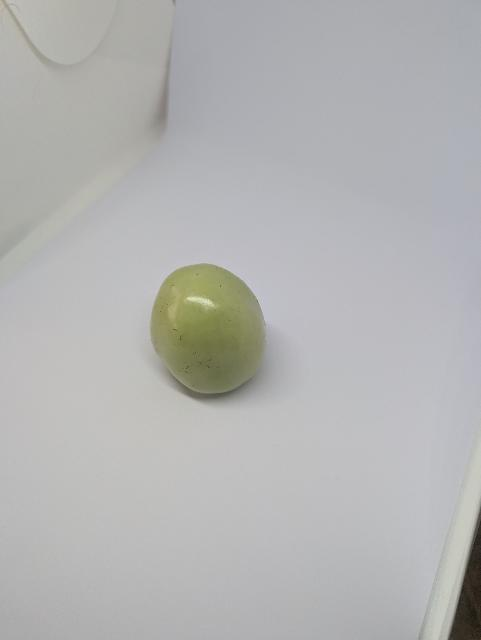green: (145, 251, 274, 405)
